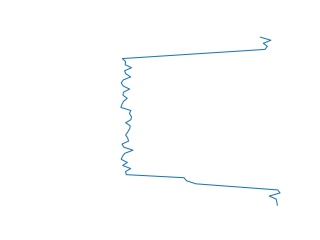distributaryChannelFill: (114, 35, 288, 206)
